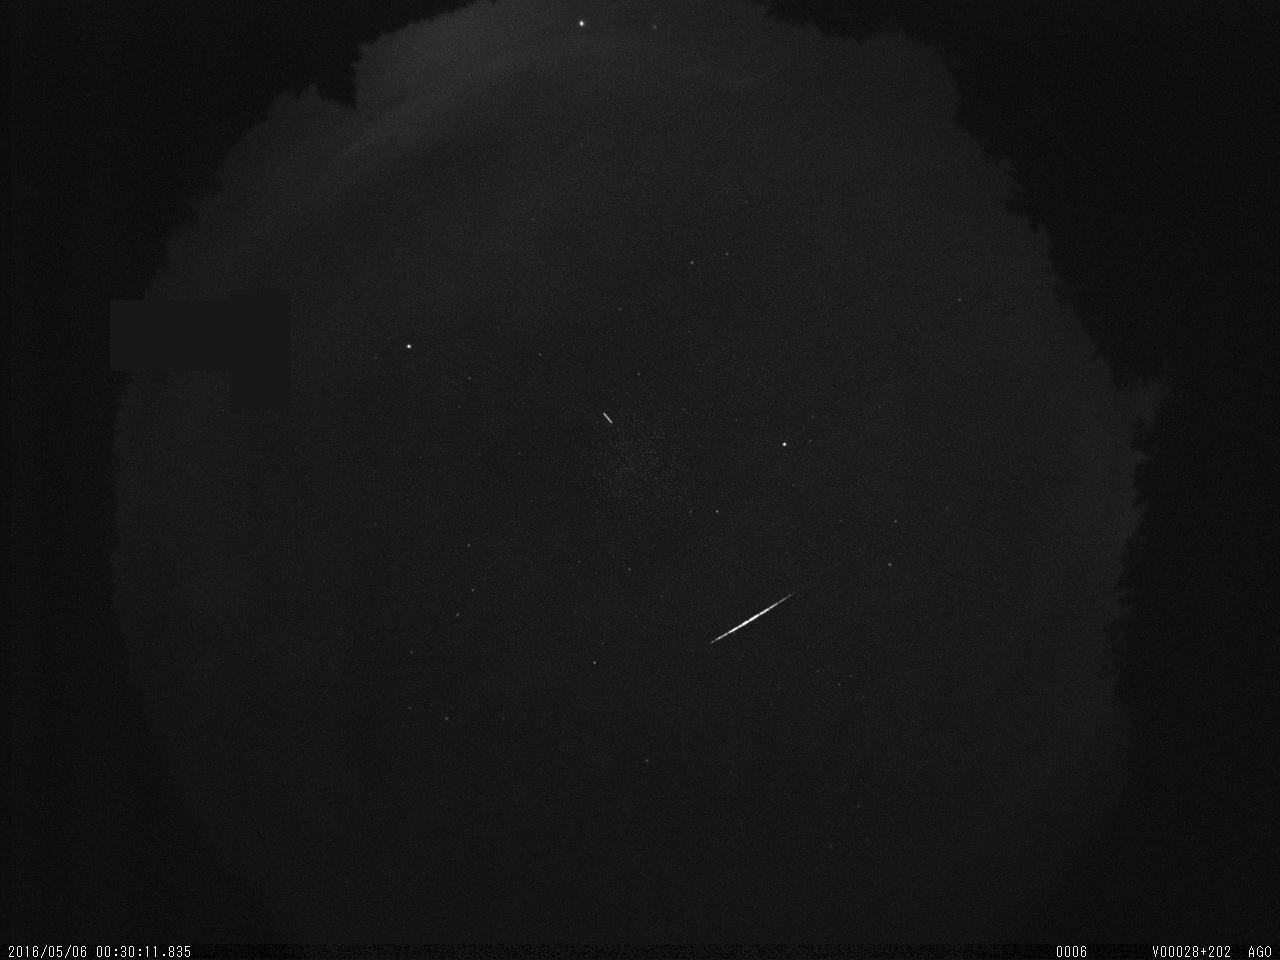meteor: (698, 573, 804, 651)
